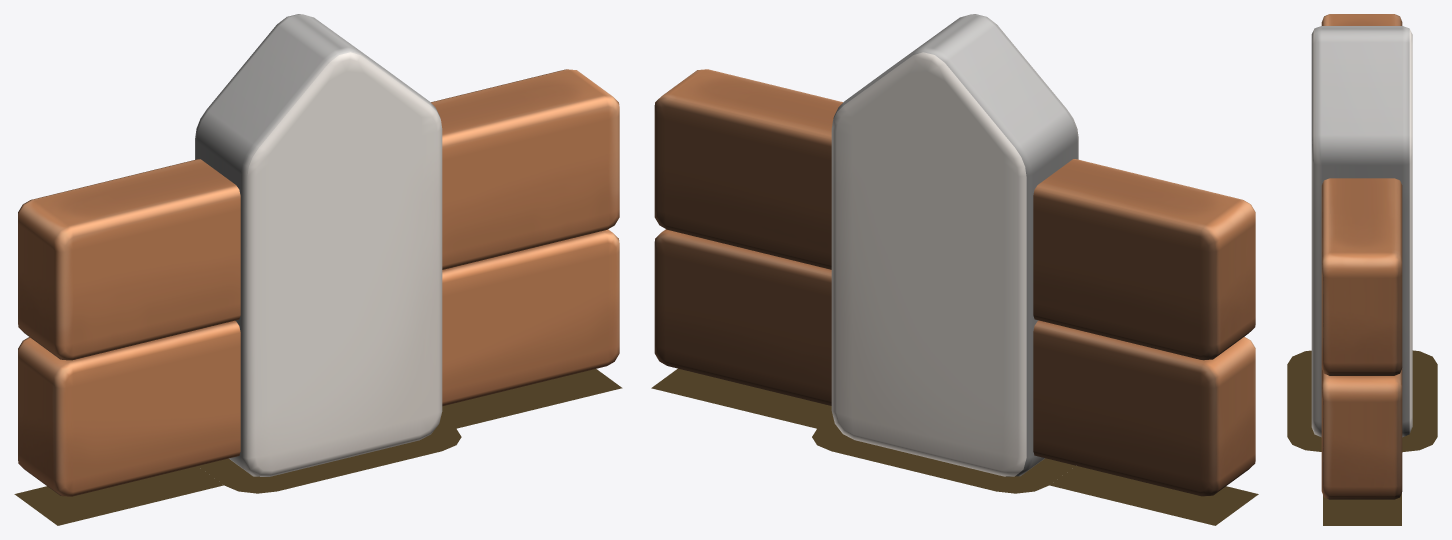
Rendered from FenceA_2side.fbx.
3 renders of one model, left to right at view 1: azimuth 30°, elevation 25°; view 2: azimuth 150°, elevation 25°; view 3: azimuth 270°, elevation 25°, orthographic. The views are drawn at different scales.
Parts seen in each view (by area): view 1: FenceA_body, FenceA_R, FenceA_L, FenceA_SDW; view 2: FenceA_body, FenceA_R, FenceA_L, FenceA_SDW; view 3: FenceA_L, FenceA_body, FenceA_SDW, FenceA_R.
Boxes of the visible parts, x1,y1,x2,y2 form: FenceA_body: (195,14,442,476); FenceA_R: (18,159,240,496); FenceA_L: (431,69,619,406); FenceA_SDW: (14,369,622,525); FenceA_body: (831,14,1078,476); FenceA_R: (1033,159,1255,496); FenceA_L: (654,69,842,405); FenceA_SDW: (651,368,1258,525); FenceA_L: (1321,178,1402,499); FenceA_body: (1311,26,1412,437); FenceA_SDW: (1287,350,1437,525); FenceA_R: (1321,14,1402,25).
Bounding box in the file's own units: 99.99 × 69.37 × 25.3.
Materials: 2 (1 with a texture image).
